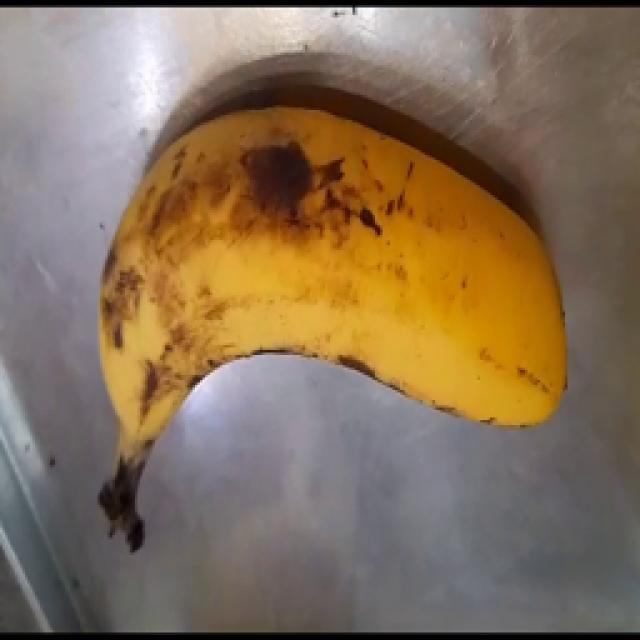Rotten_Banana: (60, 90, 567, 518)
